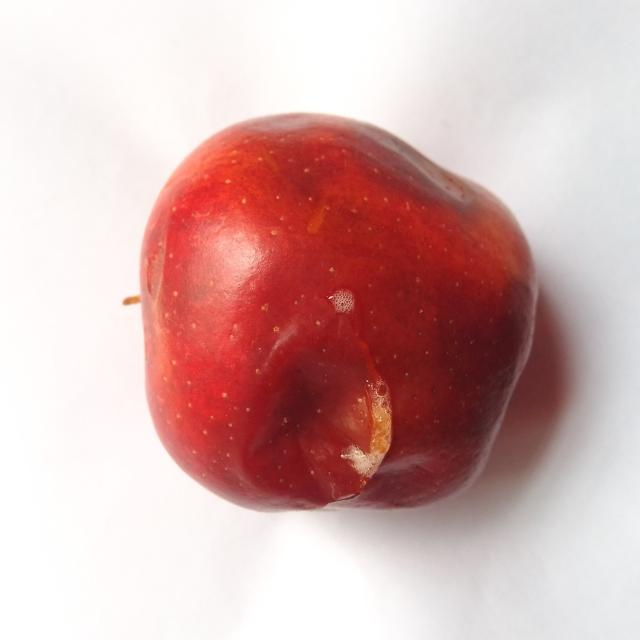apple: (141, 115, 536, 509)
